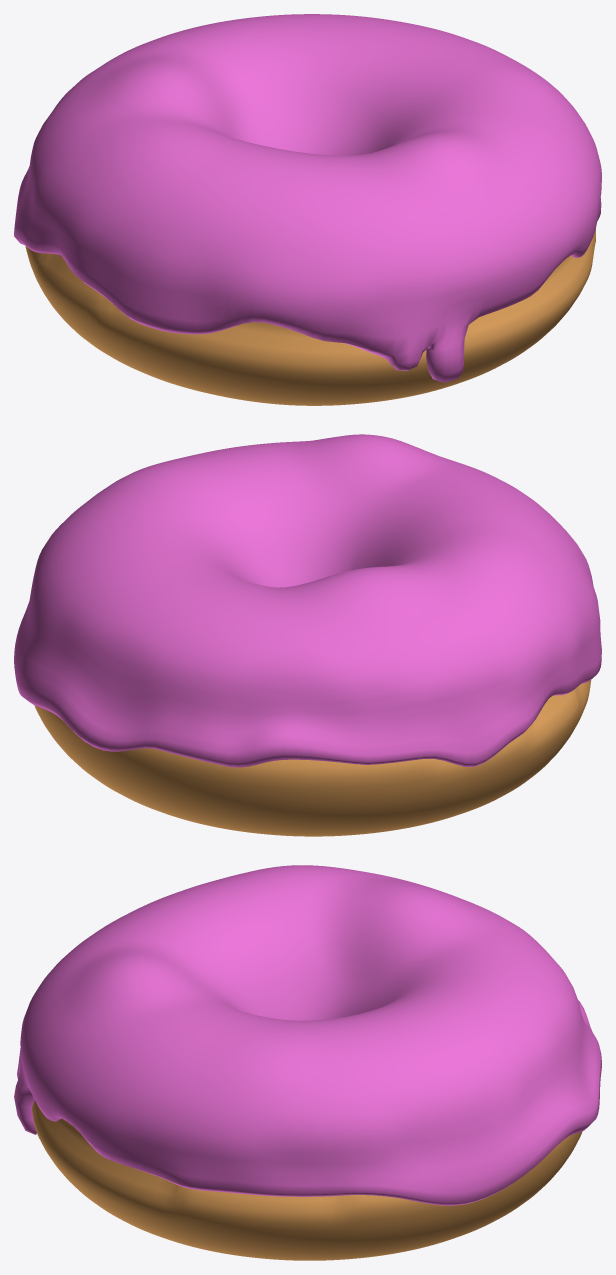
The model's file is Donut.gltf.
The picture shows the model from 3 angles, top to bottom: view 1: azimuth 30°, elevation 25°; view 2: azimuth 150°, elevation 25°; view 3: azimuth 270°, elevation 25°; orthographic projection. The views are drawn at different scales.
Visible parts, largest first — view 1: Icing, Donut; view 2: Icing, Donut; view 3: Icing, Donut.
Boxes of the visible parts, left/top/right/bottom form: Icing: left=14, top=14, right=601, bottom=382; Donut: left=25, top=228, right=595, bottom=405; Icing: left=14, top=434, right=601, bottom=767; Donut: left=34, top=680, right=591, bottom=836; Icing: left=14, top=865, right=601, bottom=1205; Donut: left=32, top=1100, right=582, bottom=1260.
Size of what is drawn, in the model's own units: 0.098 by 0.0446 by 0.1017.
